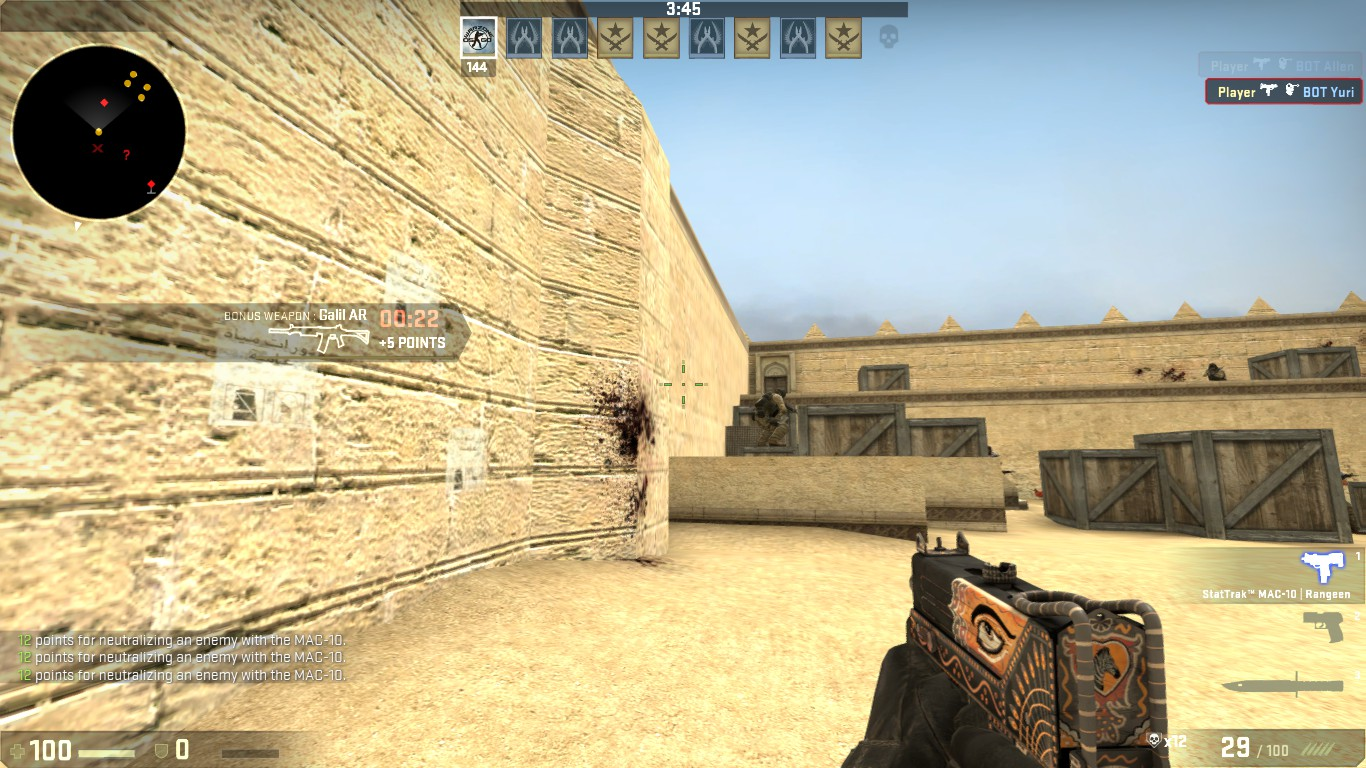c: (750, 386, 790, 448)
ch: (772, 385, 788, 401), (1208, 364, 1220, 373)
